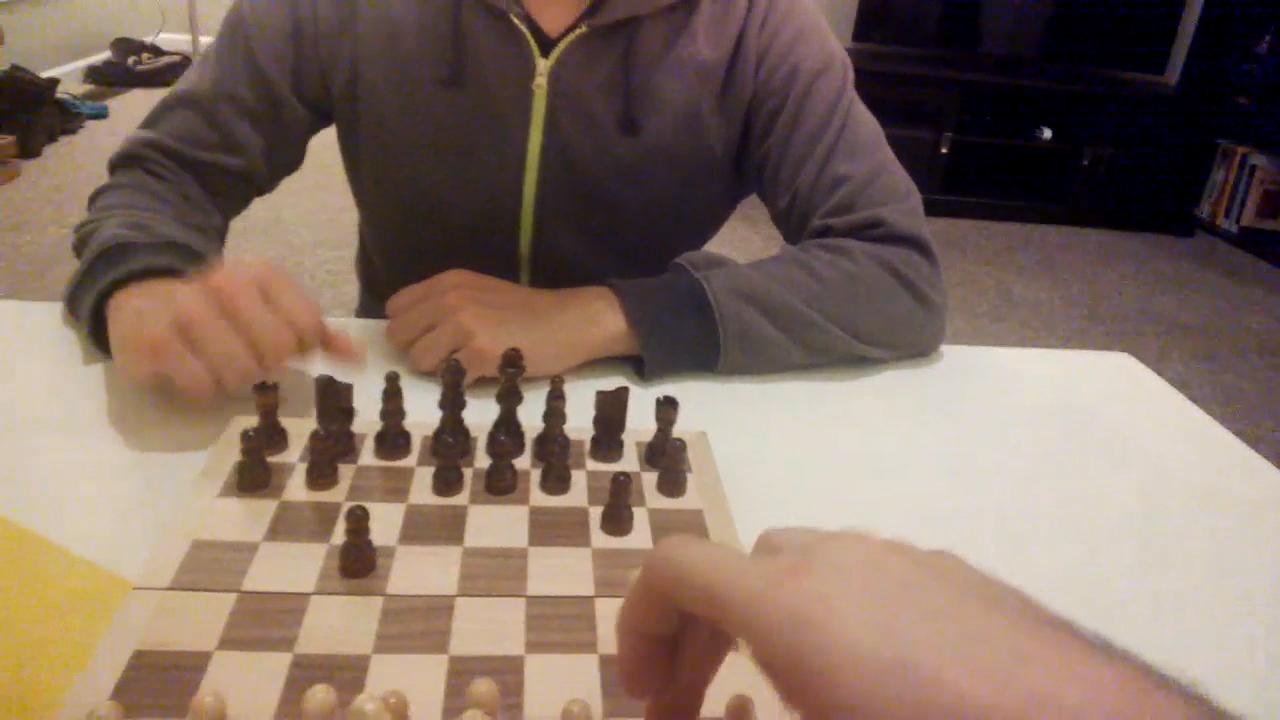hand: (601, 506, 1140, 720), (121, 254, 359, 413), (379, 267, 595, 394)
